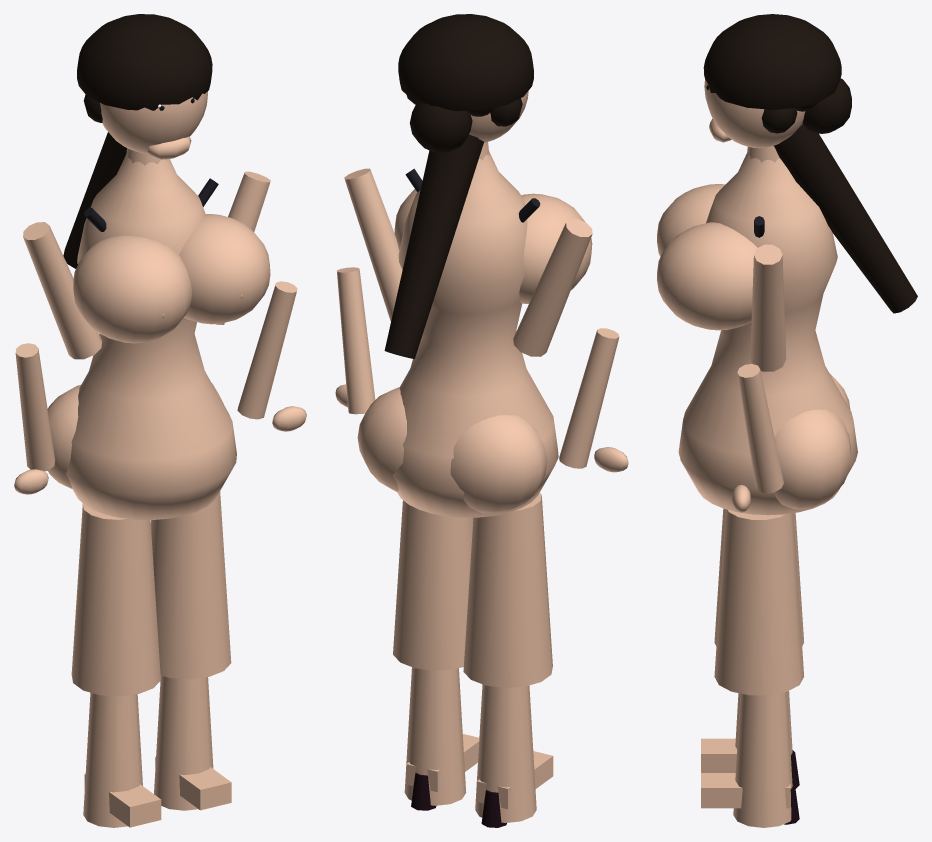
File: venus.glb
3 renders of one model, left to right at view 1: azimuth 30°, elevation 25°; view 2: azimuth 150°, elevation 25°; view 3: azimuth 270°, elevation 25°, orthographic.
Parts seen in each view (by area): view 1: VENUS, torso, hairCap, breastL, breastR, armL, head, hairTail, armR; view 2: VENUS, torso, hairCap, hairTail, armL, armR, breastL, head; view 3: VENUS, torso, hairCap, breastR, hairTail, armR, head, breastL.
Boxes of the visible parts, <box> form: VENUS: <box>14,94,306,827</box>; torso: <box>66,154,236,519</box>; hairCap: <box>77,14,212,110</box>; breastL: <box>73,235,192,343</box>; breastR: <box>179,214,270,324</box>; armL: <box>23,222,101,359</box>; head: <box>100,91,207,153</box>; hairTail: <box>63,132,126,268</box>; armR: <box>215,171,270,324</box>; VENUS: <box>335,95,628,827</box>; torso: <box>392,151,558,517</box>; hairCap: <box>398,14,533,110</box>; hairTail: <box>384,134,483,358</box>; armL: <box>513,219,592,356</box>; armR: <box>344,168,402,321</box>; breastL: <box>519,193,592,303</box>; head: <box>469,91,528,142</box>; VENUS: <box>701,78,851,827</box>; torso: <box>678,153,857,515</box>; hairCap: <box>703,14,841,109</box>; breastR: <box>657,222,757,330</box>; hairTail: <box>774,124,917,313</box>; armR: <box>750,244,786,371</box>; head: <box>704,79,805,148</box>; breastL: <box>657,184,725,256</box>.
Size of the model in its own units: 0.748 by 1.92 by 0.5816.
